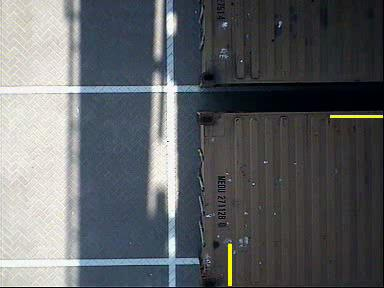groundmarker_2: (146, 148, 199, 183)
